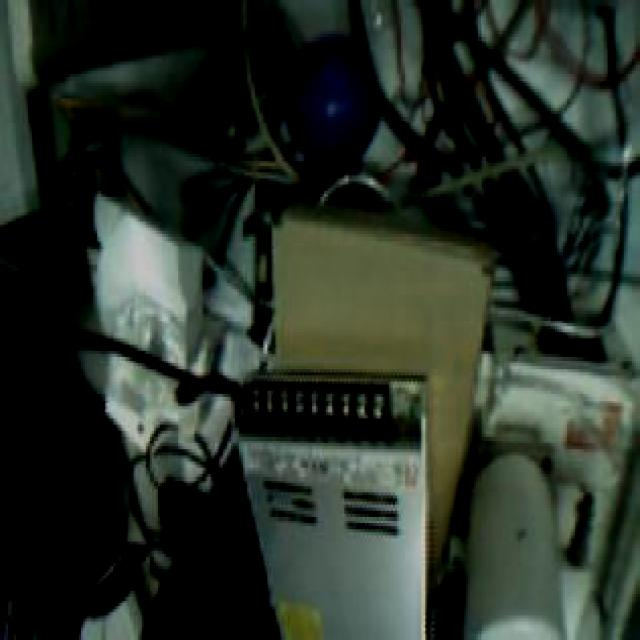BallPurple: (285, 34, 378, 170)
